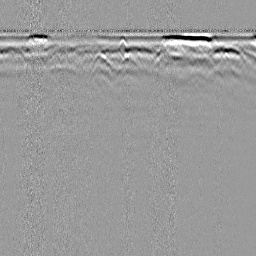cavity: (118, 48, 138, 68)
